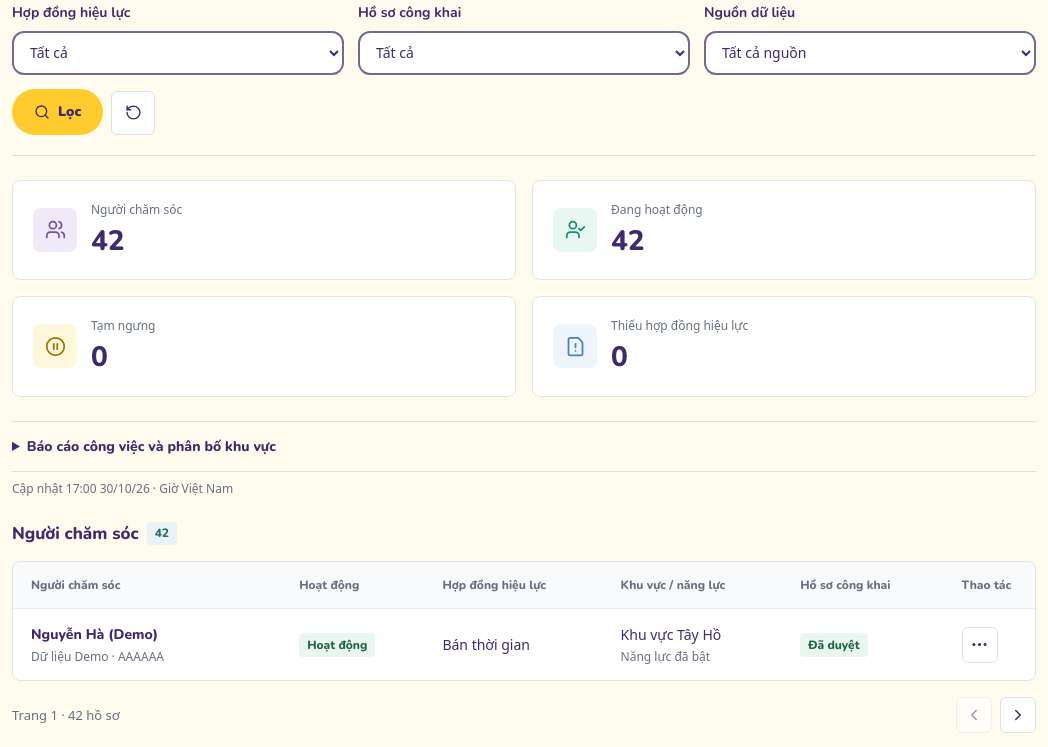
Test: operational table, truthful source counts, filters, cursor reset and detail navigation
(page scrolled)
expect the link "Nguyễn Hà (Demo)" is shown: met, box [31,625,158,644]
expect the table is shown: met, box [13,562,1036,680]
Click the button named "Trang sau" at [1018, 715], box [1000,697,1036,733]
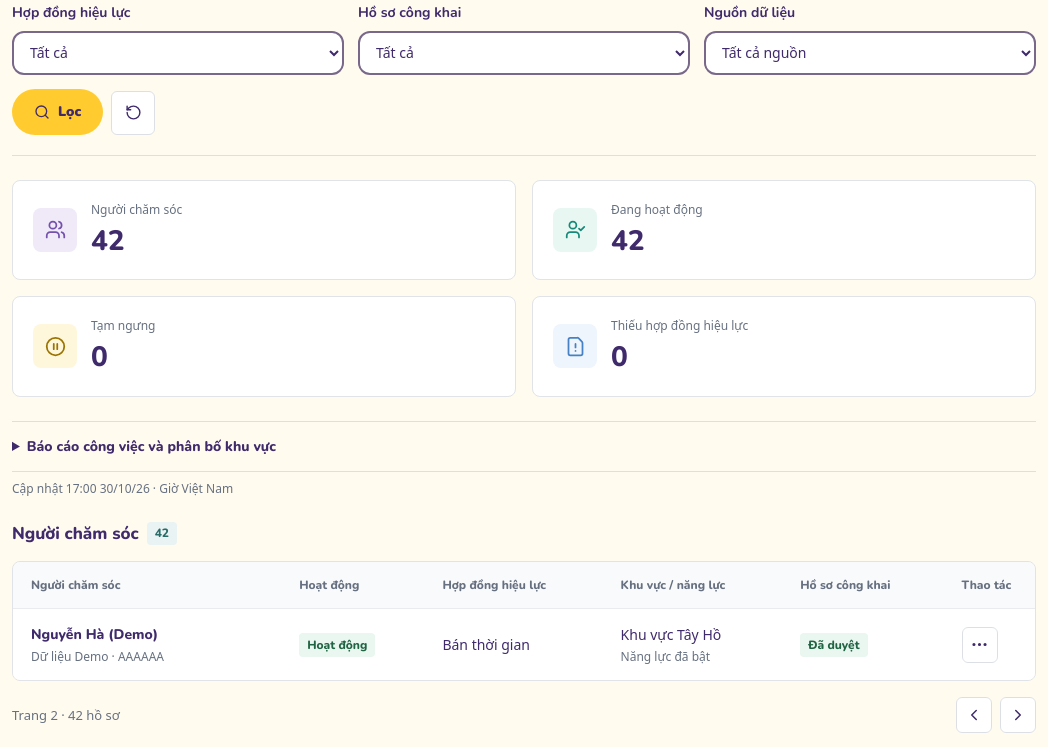
Select "Hồ sơ thực" in the dropdown labelled "Nguồn dữ liệu" at [870, 53], box [704,31,1036,75]
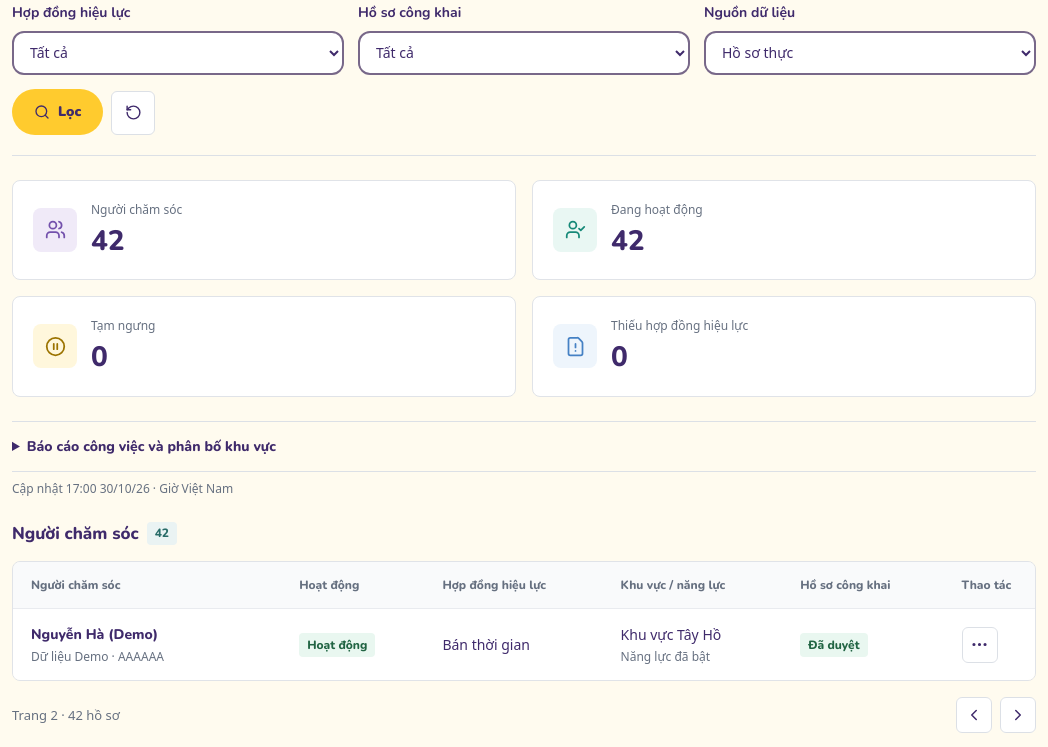
Click the button "Lọc" at [58, 112], box [12,89,103,135]
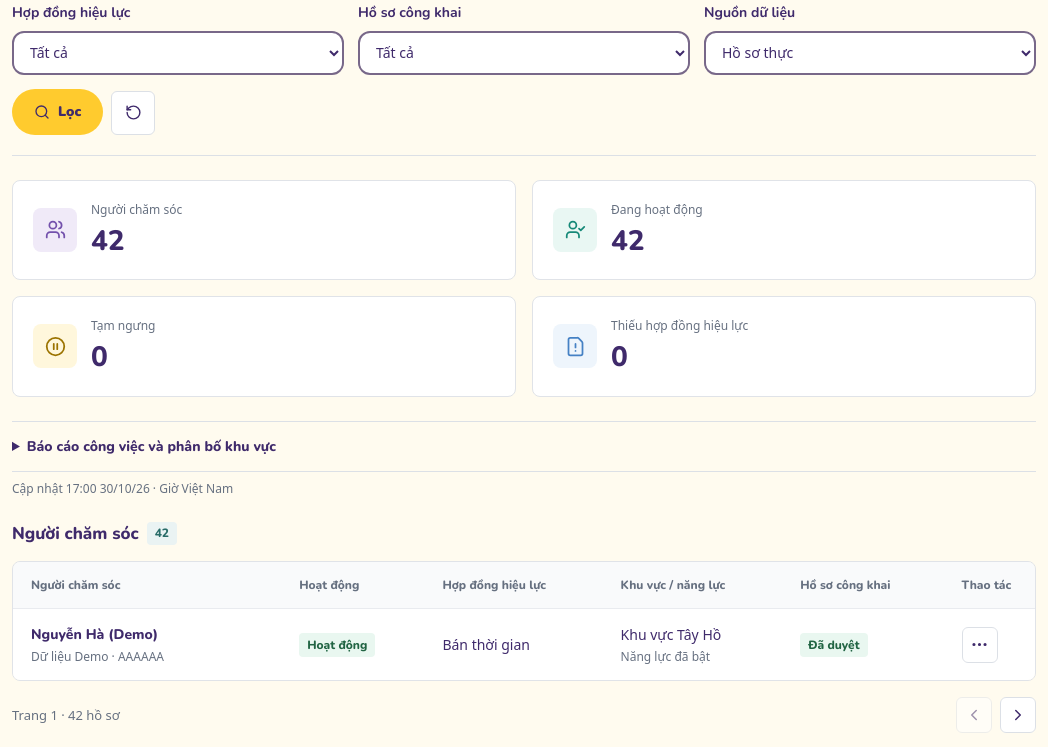
Click the link "Nguyễn Hà (Demo)" at [94, 635], box [31,625,158,644]
(page scrolled)
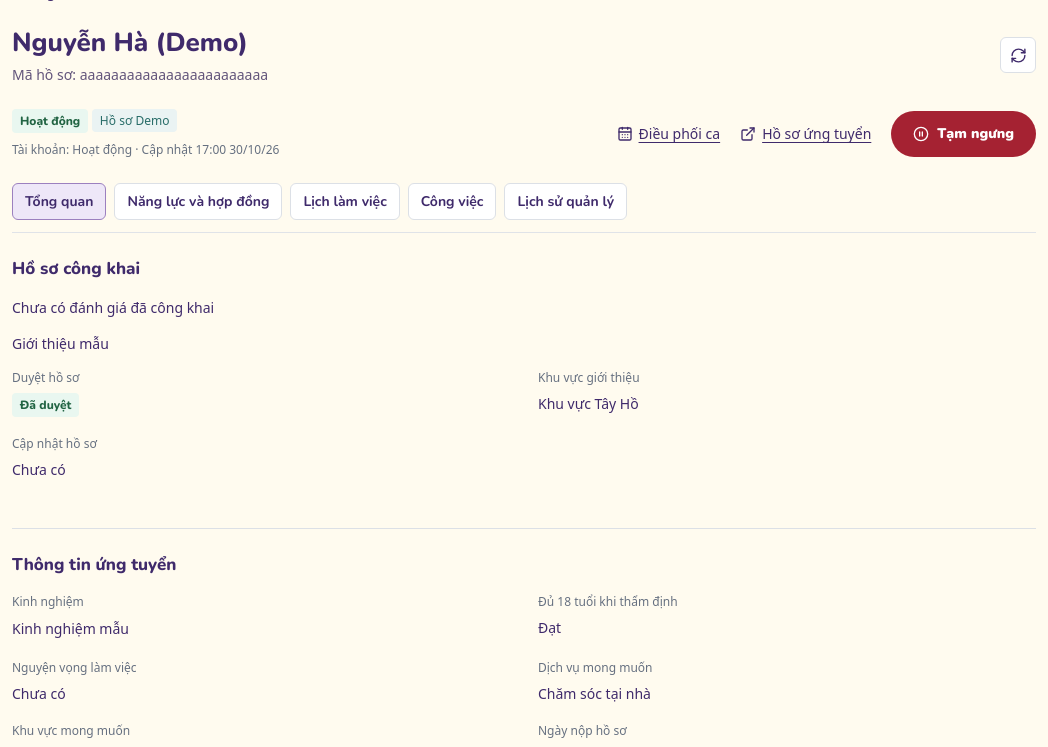
expect the text "Kinh nghiệm mẫu" is shown: met, box [12,619,129,638]
